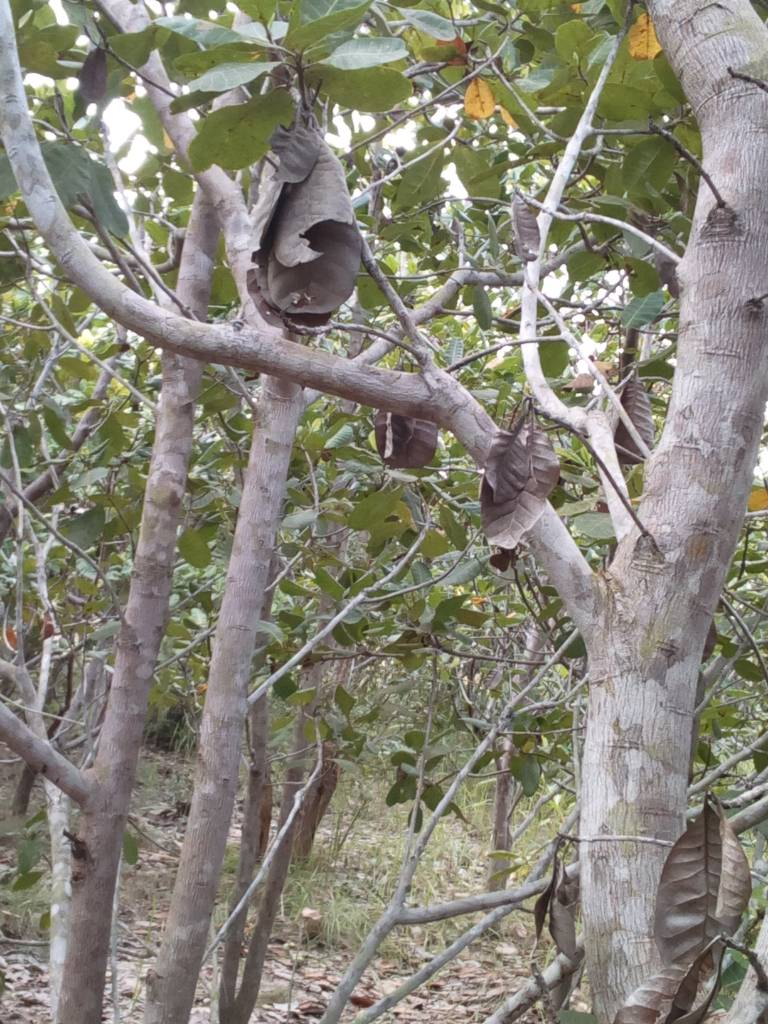Dessèchement des bourgeons: (249, 114, 360, 325)
